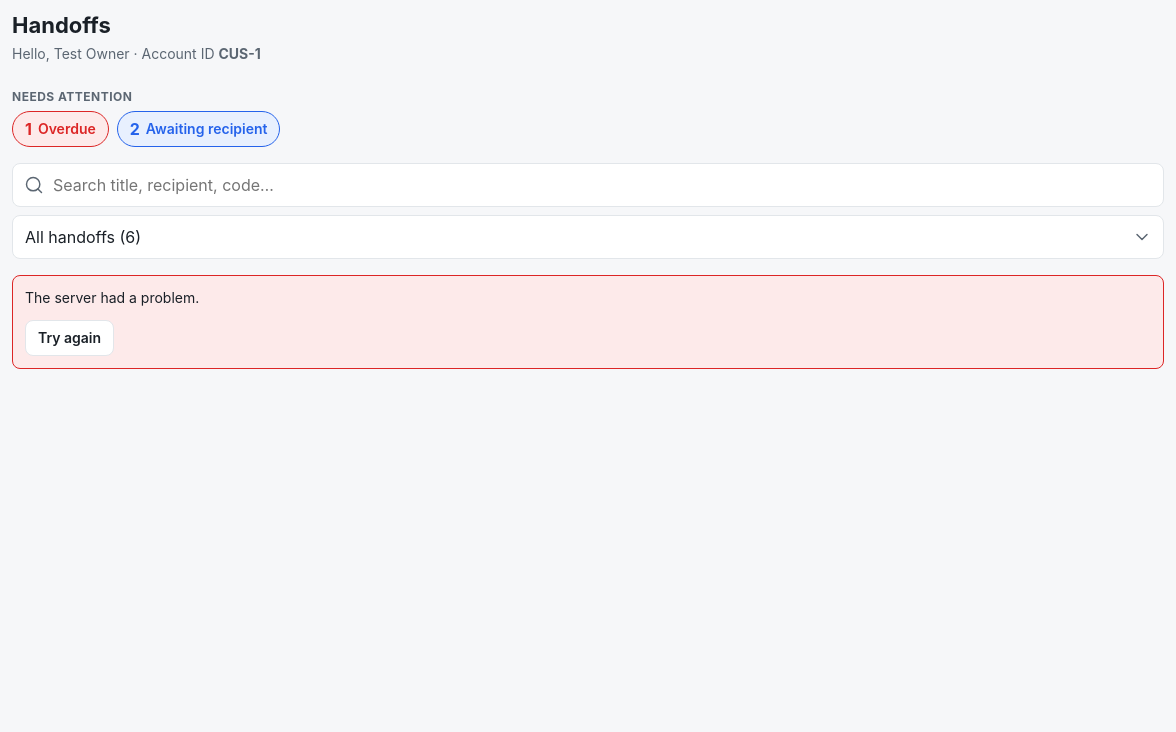
Test: Dashboard › shows a failed load as an alert with a retry, and retries
The width and height of the screenshot is (1176, 732).
Check: the message shows "The server had a problem.", box [25,289,199,306]
Step 1. Click the button "Try again" → (70, 338), box [25,320,114,356]
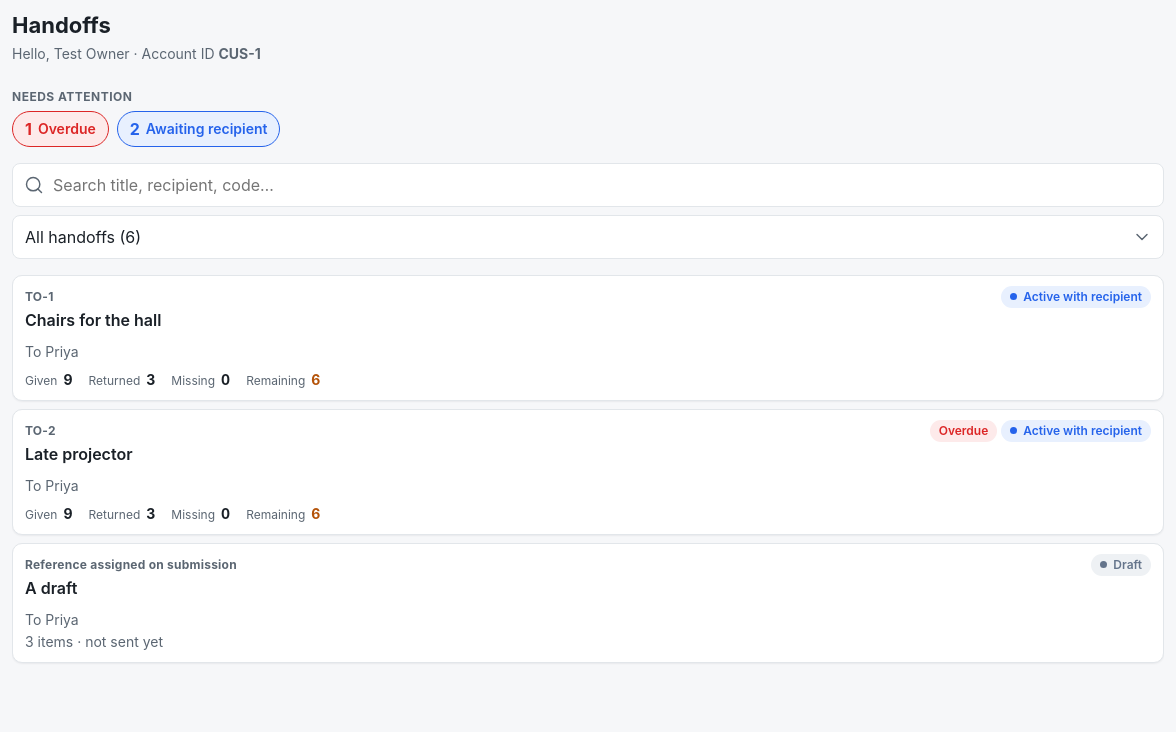
Check: the heading "Chairs for the hall" is shown, box [25,310,161,330]
